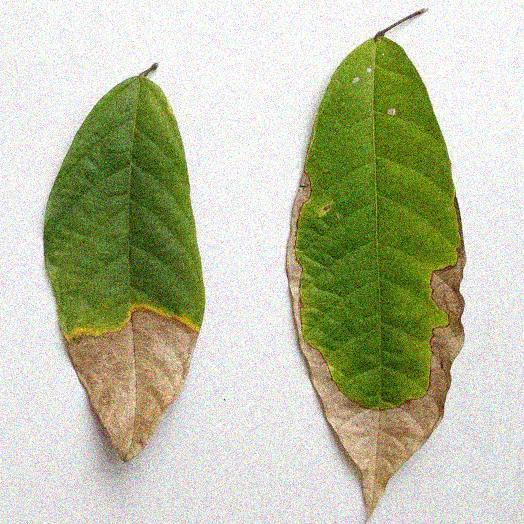Potassium: (287, 24, 464, 512), (45, 64, 204, 459)
